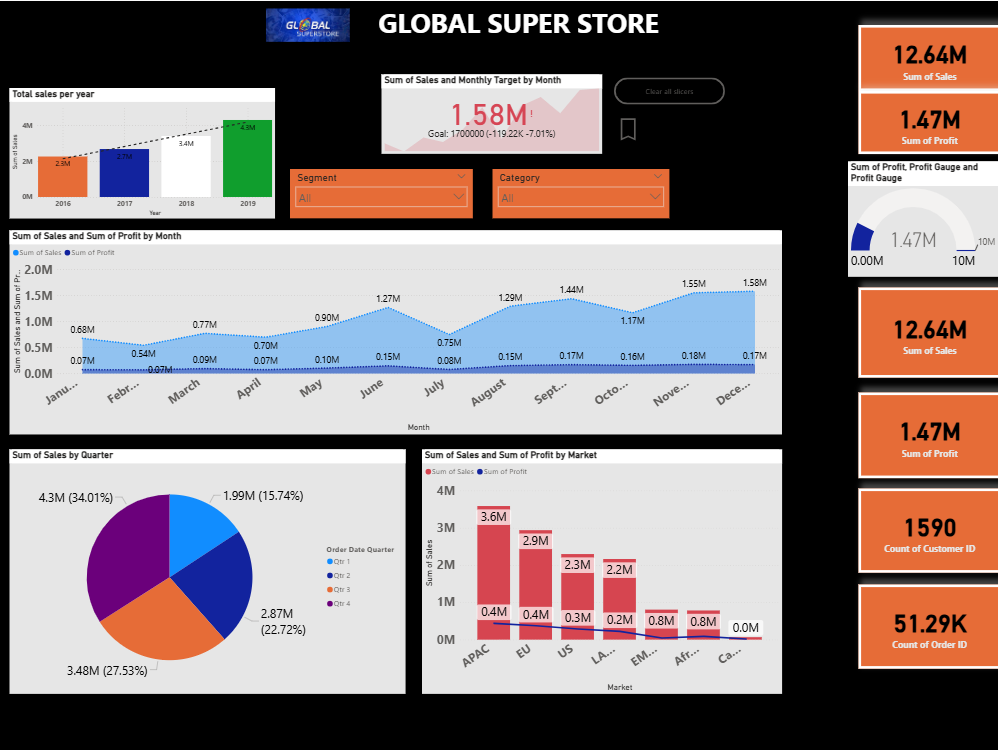

This screenshot's page, from the dashboard's own definition file:
{"tool":"powerbi","page":{"name":"Page 1","canvas":[1800,1350],"ordinal":0},"visuals":[{"type":"textbox","box":[676.8,0,528.5,91.7],"z":0},{"type":"image","box":[474.6,8.1,161.8,70.1],"z":1000},{"type":"card","fields":{"Values":["Sum(Orders.Sales)"]},"box":[1545.1,515,256.2,161.8],"z":2000},{"type":"card","fields":{"Values":["Sum(Orders.Profit)"]},"box":[1545.1,703.8,256.2,153.7],"z":3000},{"type":"card","fields":{"Values":["Count(Orders.Customer ID)"]},"box":[1545.1,876.3,256.2,151],"z":4000},{"type":"card","fields":{"Values":["CountNonNull(Orders.Order ID)"]},"box":[1545.1,1048.9,256.2,151],"z":5000},{"type":"clusteredColumnChart","title":"Total sales per year","fields":{"Category":["Orders.Order Date.Variation.Date Hierarchy.Year"],"Y":["Sum(Orders.Sales)"]},"box":[18.9,156.4,477.3,234.6],"z":6000},{"type":"lineChart","fields":{"Category":["Orders.Order Date.Variation.Date Hierarchy.Month"],"Y":["Sum(Orders.Sales)","Sum(Orders.Profit)"]},"box":[18.9,412.6,1388.7,366.7],"z":7000},{"type":"lineClusteredColumnComboChart","fields":{"Category":["Orders.Market"],"Y":["Sum(Orders.Sales)"],"Y2":["Sum(Orders.Profit)"]},"box":[760.4,806.2,647.2,439.5],"z":8000},{"type":"pieChart","fields":{"Category":["Orders.Order Date.Variation.Date Hierarchy.Quarter"],"Y":["Sum(Orders.Sales)"]},"box":[18.9,806.2,711.9,439.5],"z":9000},{"type":"slicer","fields":{"Values":["Orders.Segment"]},"box":[523.1,302,329,89],"z":10000},{"type":"slicer","fields":{"Values":["Orders.Category"]},"box":[887.1,302,318.2,89],"z":11000},{"type":"card","fields":{"Values":["Sum(Orders.Sales)"]},"box":[1545.1,43.1,256.2,118.6],"z":12000},{"type":"card","fields":{"Values":["Sum(Orders.Profit)"]},"box":[1545.1,161.8,256.2,113.3],"z":13000},{"type":"kpi","fields":{"Indicator":["Sum(Orders.Sales)"],"TrendLine":["Orders.Order Date.Variation.Date Hierarchy.Month"],"Goal":["Customer.Monthly Target"]},"box":[687.6,132.1,396.4,142.9],"z":14000},{"type":"gauge","fields":{"Y":["Sum(Orders.Profit)"],"MaxValue":["Customer.Profit Gauge"],"TargetValue":["Customer.Profit Gauge"]},"box":[1526.2,288.5,275,207.6],"z":15000},{"type":"actionButton","box":[1105.5,137.5,199.5,48.5],"z":16000},{"type":"actionButton","box":[1105.5,204.9,148.3,51.2],"z":17000}]}

Visuals, with their boxes in screenshot pixels (x1, y1, x2, y2), scaled from the page's 1800x1350 canvas onto the 998x750 screenshot:
textbox: locate(375, 0, 668, 51)
image: locate(263, 4, 353, 43)
card - Sum(Orders.Sales): locate(857, 286, 997, 376)
card - Sum(Orders.Profit): locate(857, 391, 997, 476)
card - Count(Orders.Customer ID): locate(857, 487, 997, 571)
card - CountNonNull(Orders.Order ID): locate(857, 583, 997, 667)
"Total sales per year" clusteredColumnChart: locate(10, 87, 275, 217)
lineChart - Orders.Order Date.Variation.Date Hierarchy.Month x Sum(Orders.Sales): locate(10, 229, 780, 433)
lineClusteredColumnComboChart - Orders.Market x Sum(Orders.Sales): locate(422, 448, 780, 692)
pieChart - Orders.Order Date.Variation.Date Hierarchy.Quarter x Sum(Orders.Sales): locate(10, 448, 405, 692)
slicer - Orders.Segment: locate(290, 168, 472, 217)
slicer - Orders.Category: locate(492, 168, 668, 217)
card - Sum(Orders.Sales): locate(857, 24, 997, 90)
card - Sum(Orders.Profit): locate(857, 90, 997, 153)
kpi - Sum(Orders.Sales) x Orders.Order Date.Variation.Date Hierarchy.Month: locate(381, 73, 601, 153)
gauge - Sum(Orders.Profit) x Customer.Profit Gauge: locate(846, 160, 997, 276)
actionButton: locate(613, 76, 724, 103)
actionButton: locate(613, 114, 695, 142)
